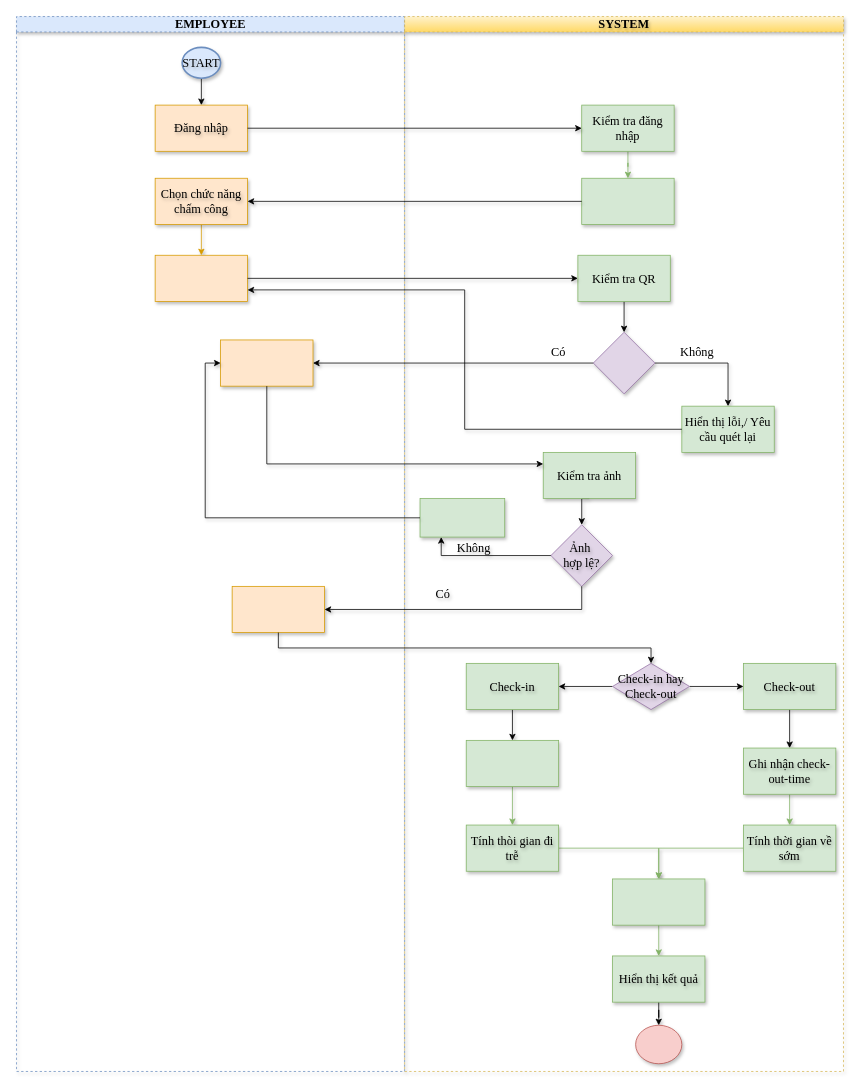
This 862x1090 diagram has some shape labels left out. Here are the shapes that lost their labels. From the top down, the centre of each, then its label:
(x=628, y=202): Hiển thị chức năng
(x=201, y=279): Quét QR động
(x=267, y=364): Mở camera và chụp ảnh
(x=624, y=363): QR hợp lệ?
(x=462, y=518): Yêu cầu chụp lại
(x=278, y=610): Chọn Check-in/Check-out
(x=512, y=764): Ghi nhận check-in time
(x=659, y=903): Lưu dữ liệu chấm công
(x=659, y=1045): END
